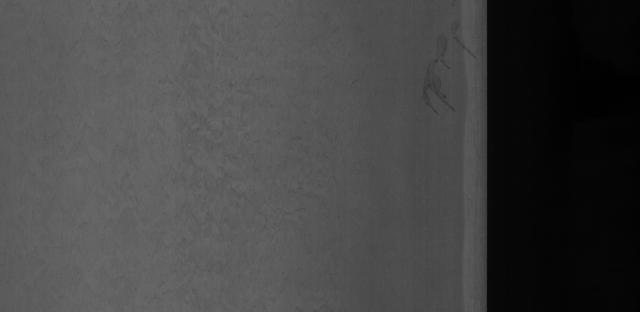silk_spot: (90, 10, 338, 276)
water_spot: (412, 22, 468, 118)
